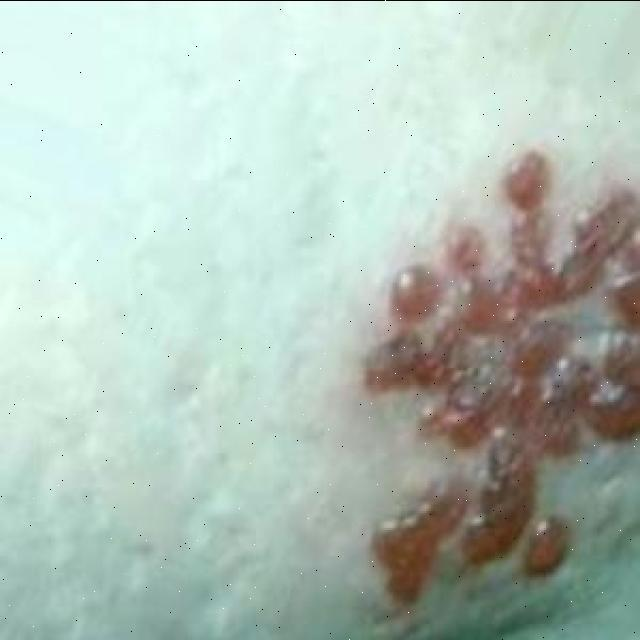Shingles: (363, 150, 640, 598)
